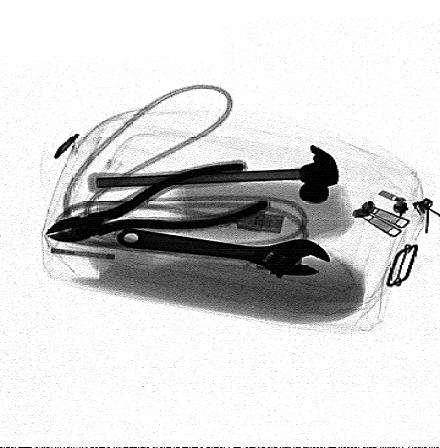Hammer: (85, 143, 339, 204)
Pliers: (37, 158, 272, 246)
Wrench: (112, 228, 332, 278)
